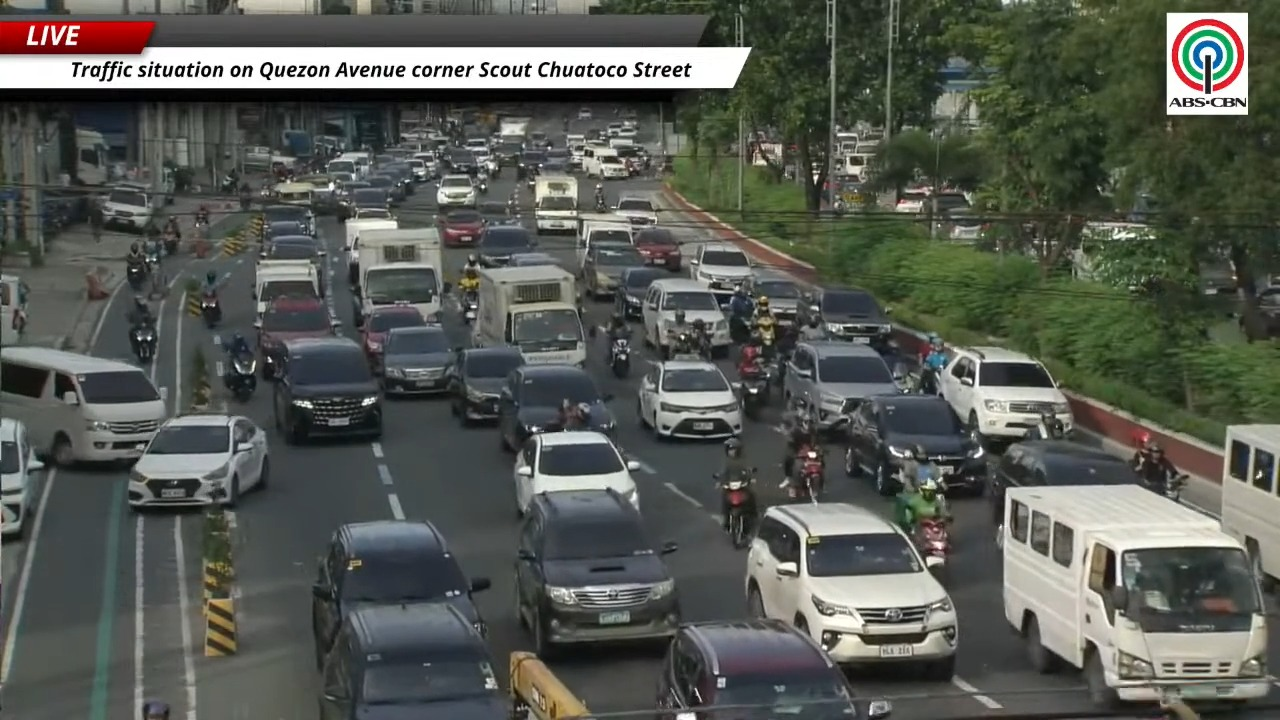car: (744, 502, 958, 681), (516, 489, 681, 657), (312, 520, 490, 665), (319, 604, 510, 719), (658, 618, 863, 719), (844, 394, 986, 495), (127, 413, 269, 508), (937, 346, 1072, 442), (987, 441, 1136, 524), (273, 337, 382, 443), (513, 431, 640, 514), (783, 341, 900, 430), (498, 364, 615, 451), (638, 360, 742, 438), (642, 277, 730, 358), (254, 297, 337, 379), (447, 345, 524, 425), (797, 288, 892, 351), (0, 418, 43, 537), (382, 326, 452, 394), (360, 304, 427, 373), (259, 235, 326, 295), (581, 243, 645, 299), (689, 242, 752, 294), (744, 270, 802, 323), (614, 267, 668, 320), (477, 224, 536, 267), (632, 226, 681, 271), (260, 234, 326, 263), (436, 209, 485, 246), (262, 204, 315, 234), (939, 210, 987, 243), (334, 180, 371, 221), (436, 173, 478, 209), (348, 183, 391, 218), (613, 195, 657, 225), (366, 174, 405, 204), (260, 220, 309, 243), (1257, 286, 1279, 337), (384, 161, 415, 195), (517, 144, 545, 179), (614, 145, 644, 176), (445, 148, 477, 176), (508, 253, 558, 266), (405, 157, 430, 182), (350, 207, 395, 219), (463, 137, 488, 153), (529, 131, 550, 147), (616, 124, 637, 139), (606, 122, 622, 137), (577, 107, 592, 120)
motorcycle: (720, 476, 755, 548), (915, 518, 950, 575), (790, 447, 824, 503), (739, 364, 769, 419), (223, 354, 256, 401), (1139, 474, 1188, 501), (132, 325, 156, 363), (668, 331, 700, 358), (610, 337, 630, 378), (201, 292, 221, 328), (126, 262, 147, 293), (916, 366, 938, 394), (729, 315, 750, 343), (461, 290, 476, 324), (145, 243, 160, 274), (219, 174, 239, 193), (163, 232, 179, 255), (595, 195, 608, 212), (239, 193, 251, 210), (526, 171, 536, 189), (477, 179, 488, 193)
truck: (997, 485, 1270, 704), (473, 265, 585, 366), (1220, 423, 1279, 589), (353, 227, 448, 325), (253, 260, 321, 318), (343, 219, 397, 285), (534, 175, 578, 233), (498, 117, 530, 138)
